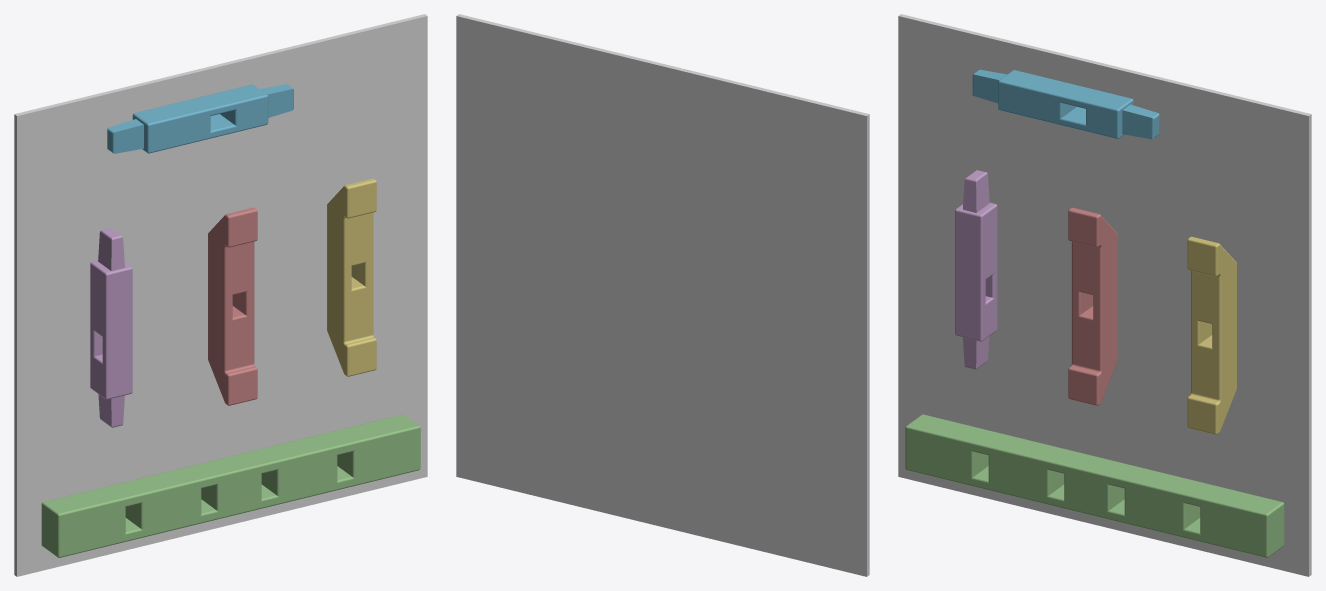
The model's file is pickup_layout.glb.
The picture shows the model from 3 angles, left to right: view 1: azimuth 30°, elevation 25°; view 2: azimuth 150°, elevation 25°; view 3: azimuth 330°, elevation 25°; orthographic projection.
Visible parts, largest first — view 1: world, 6.obj, 0.obj, 1.obj, 2.obj, 3.obj; view 2: world; view 3: world, 6.obj, 0.obj, 1.obj, 2.obj, 3.obj.
Part boxes in pixels (x1,y1,x2,y2): world: (14,14,427,576); 6.obj: (41,414,420,557); 0.obj: (208,207,257,405); 1.obj: (327,178,376,376); 2.obj: (107,84,293,153); 3.obj: (90,228,132,427); world: (456,14,869,576); world: (898,14,1311,576); 6.obj: (905,414,1284,557); 0.obj: (1068,207,1117,405); 1.obj: (1187,236,1236,434); 2.obj: (972,69,1159,139); 3.obj: (955,170,997,369).
Size of the model in its own units: 17.24 by 18.49 by 1.72.
